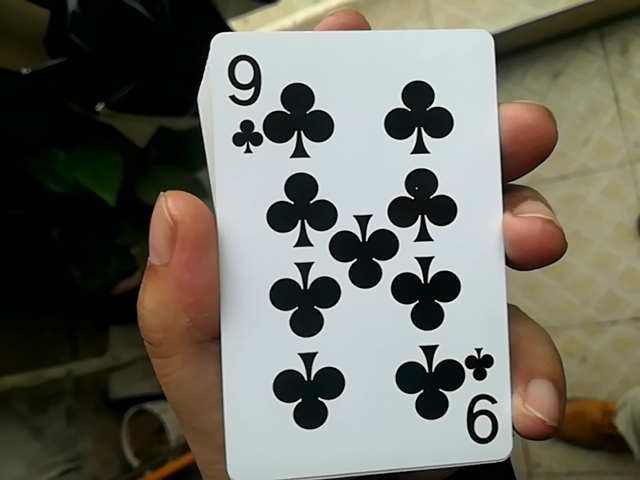mh 9: (192, 34, 507, 476)
